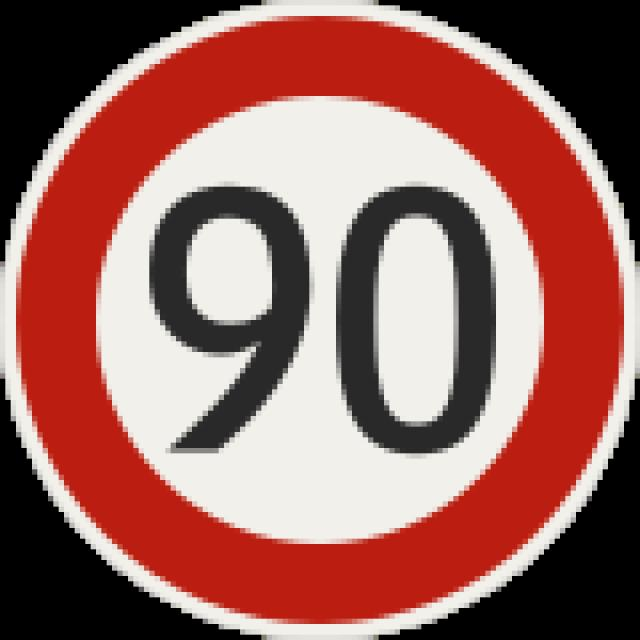Speed Limit -90-: (143, 175, 507, 465)
